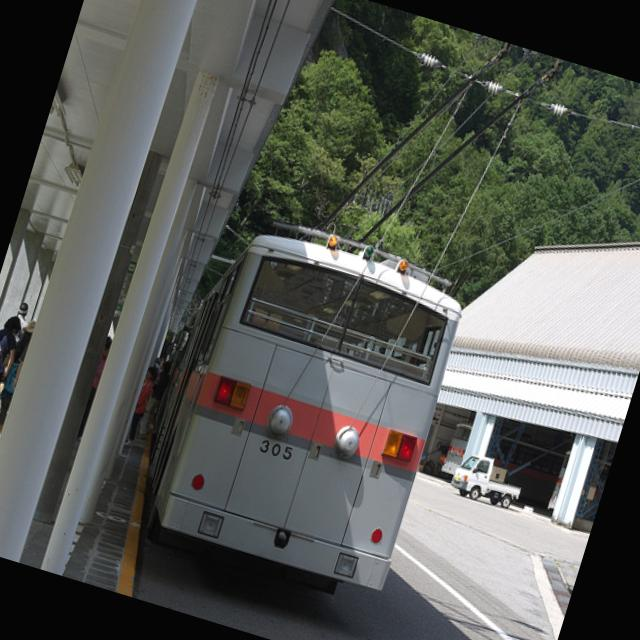Vehicle: (119, 204, 477, 607), (442, 447, 526, 514)
